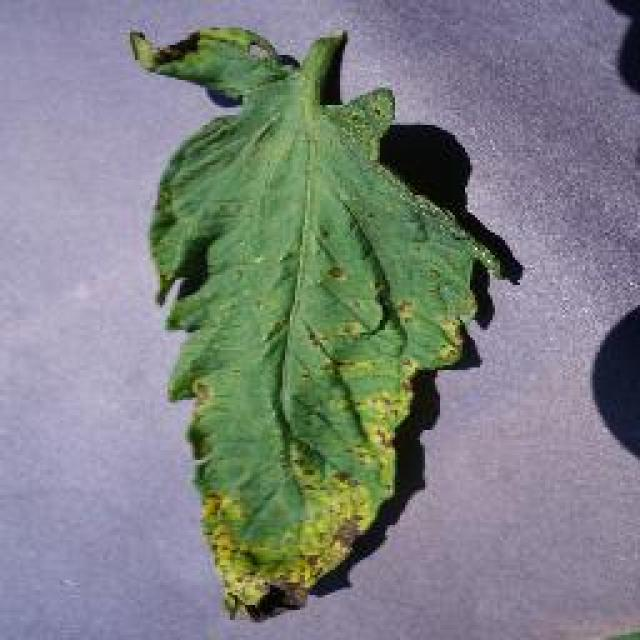Tomato___Septoria_leaf_spot: (130, 28, 500, 615)
